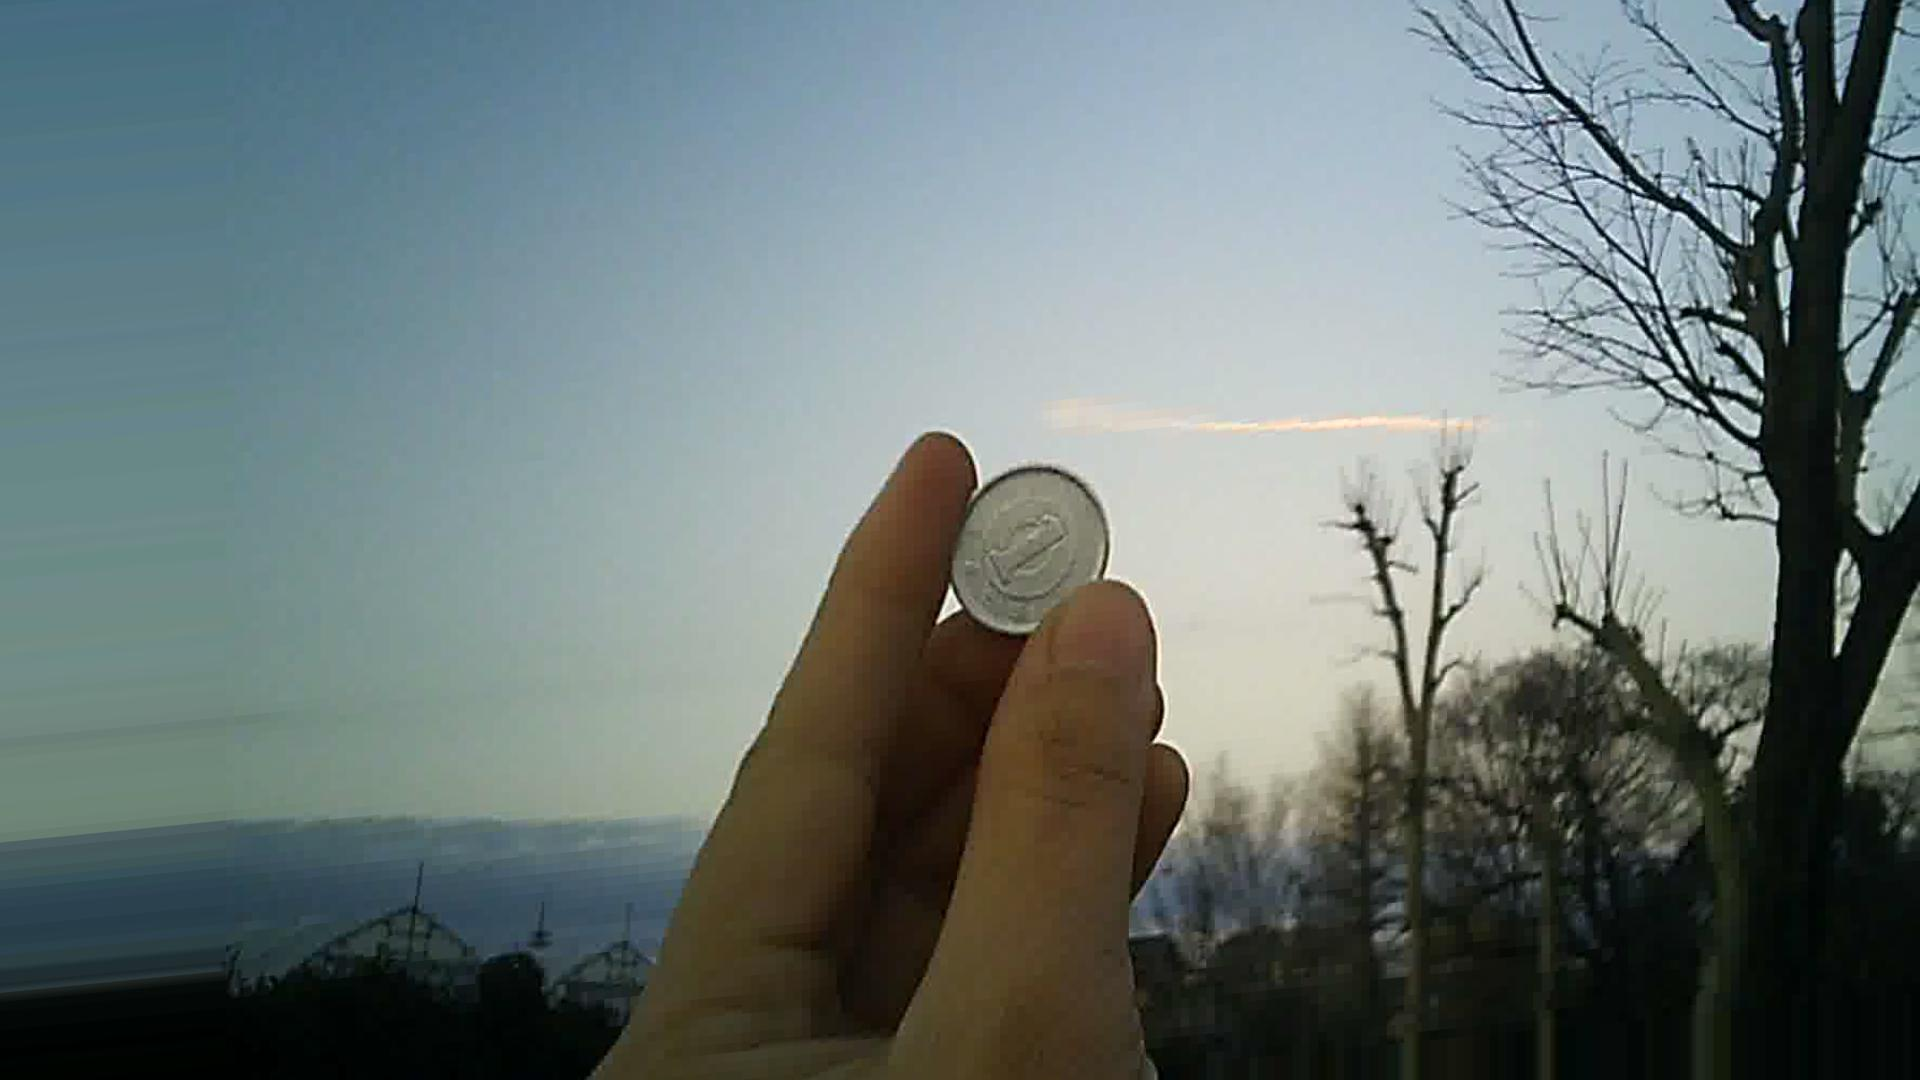1 Yen: (938, 458, 1118, 644)
